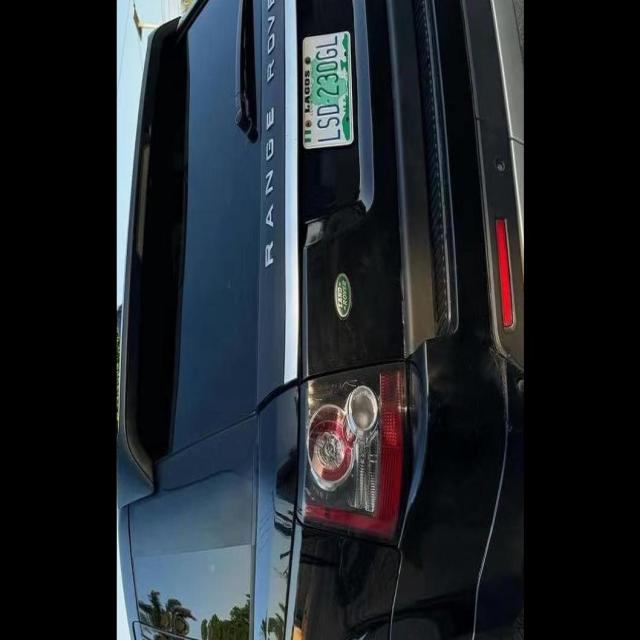Nigerian License Plate - vdataset benjamin-daria: (298, 23, 355, 150)
